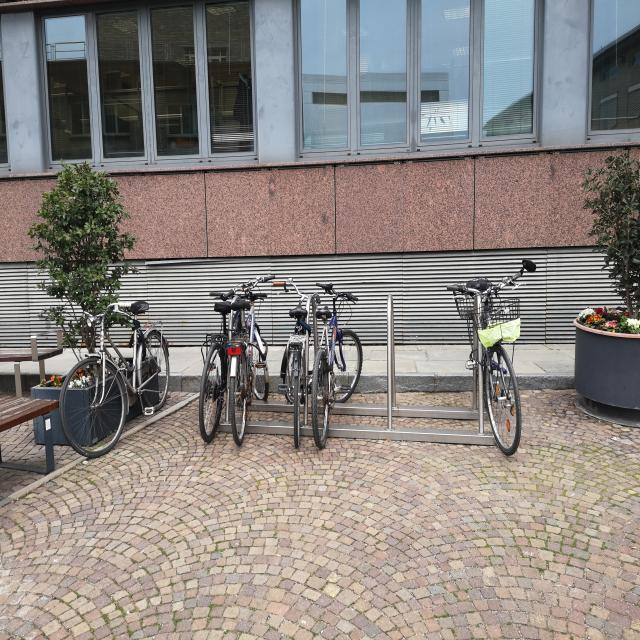Bicycle: (464, 240, 548, 500), (57, 268, 170, 456), (308, 275, 372, 455), (197, 251, 256, 436), (231, 264, 277, 440), (280, 268, 317, 454)
